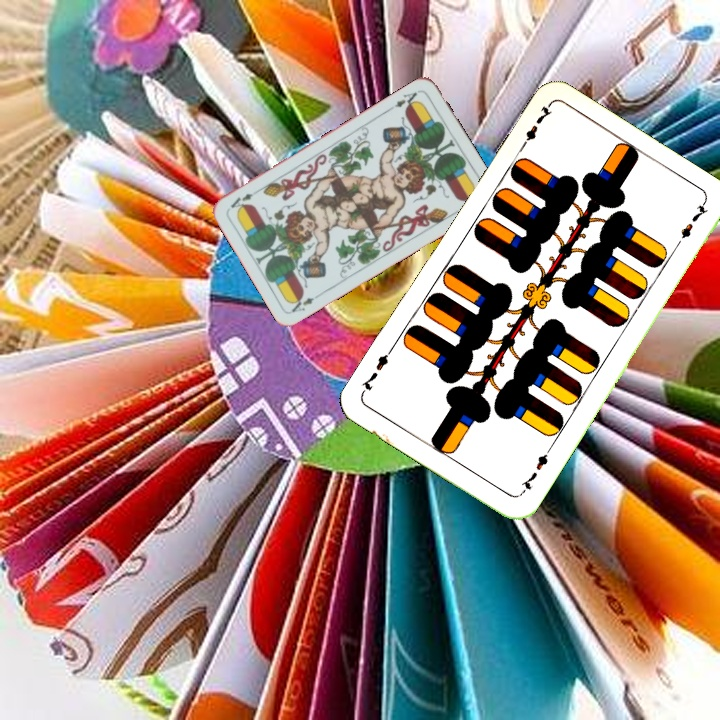E7: (515, 101, 555, 154), (516, 445, 553, 497)
EA: (386, 86, 422, 113), (286, 292, 317, 315)
